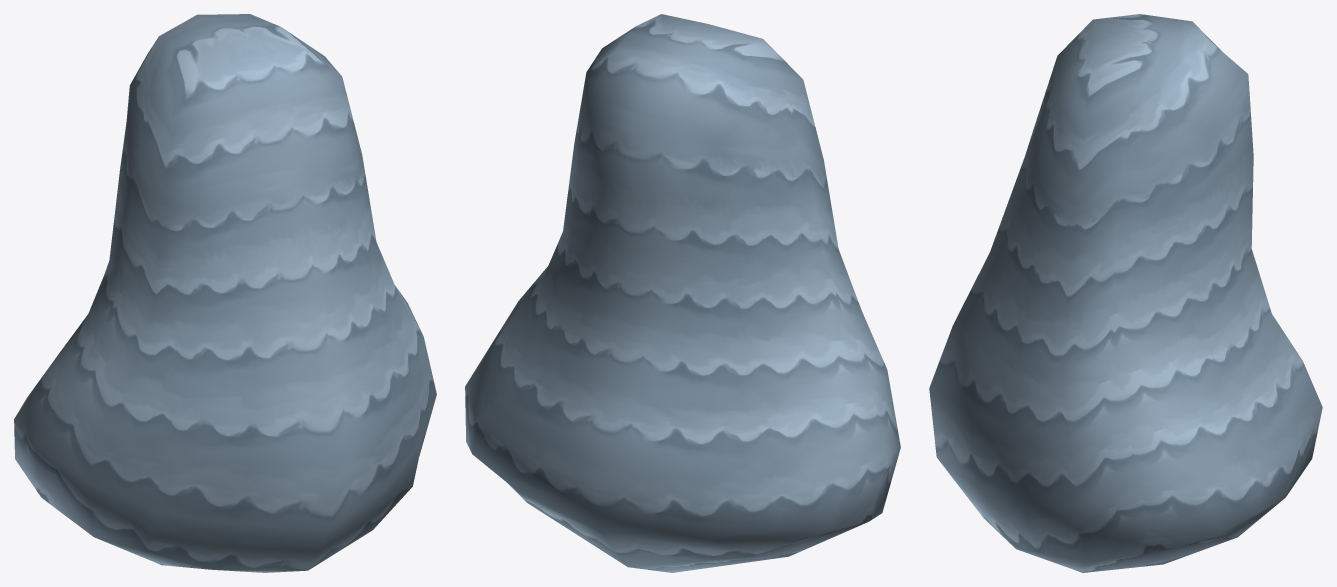
The model's file is Body.fbx.
3 views of the same model, side by side, from view 1: azimuth 30°, elevation 25°; view 2: azimuth 150°, elevation 25°; view 3: azimuth 270°, elevation 25° (orthographic). The views are drawn at different scales.
Parts seen in each view (by area): view 1: Body; view 2: Body; view 3: Body.
Boxes of the visible parts, box(x1,y1,x2,y2) form: Body: box(14, 14, 436, 572); Body: box(465, 14, 900, 572); Body: box(929, 14, 1322, 572).
Bounding box in the file's own units: 106 × 133 × 91.43.
